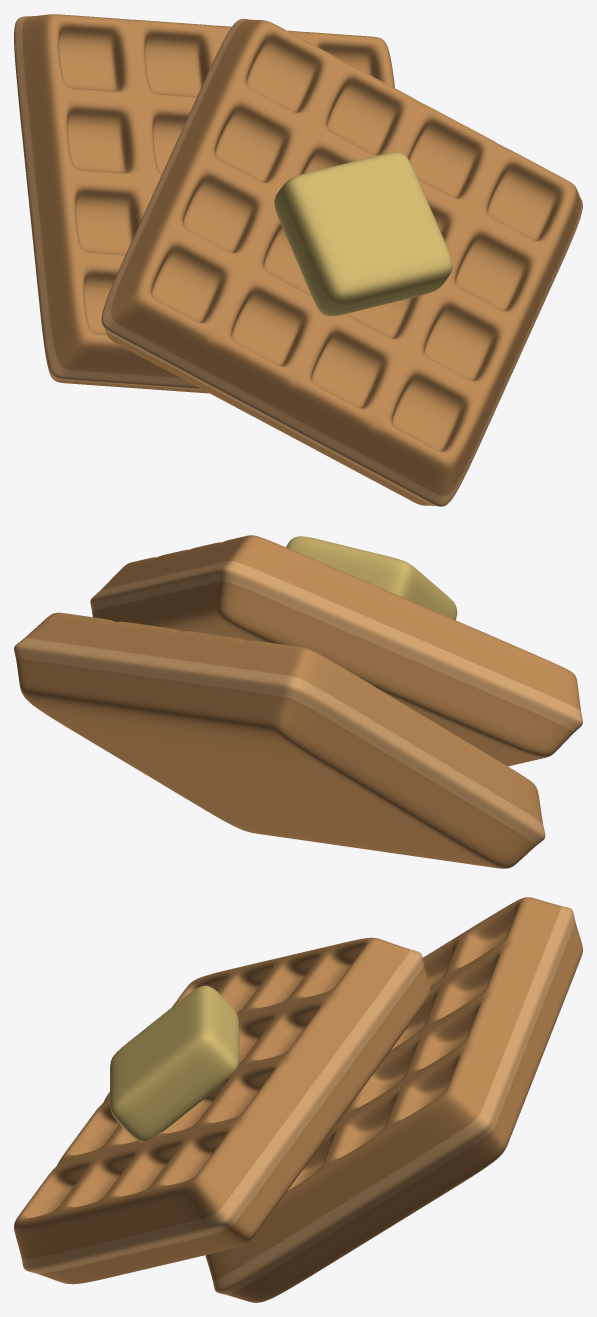
Rendered from Waffle.fbx.
The picture shows the model from 3 angles, top to bottom: view 1: azimuth 30°, elevation 25°; view 2: azimuth 150°, elevation 25°; view 3: azimuth 270°, elevation 25°; orthographic projection. The views are drawn at different scales.
Parts seen in each view (by area): view 1: Plane.012_Plane.119, Plane.025_Plane.121, Plane.014_Plane.120; view 2: Plane.025_Plane.121, Plane.012_Plane.119, Plane.014_Plane.120; view 3: Plane.012_Plane.119, Plane.025_Plane.121, Plane.014_Plane.120.
Part boxes in pixels (x1,y1,x2,y2): Plane.012_Plane.119: [101, 18, 582, 506]; Plane.025_Plane.121: [14, 14, 394, 393]; Plane.014_Plane.120: [274, 152, 452, 316]; Plane.025_Plane.121: [14, 612, 545, 868]; Plane.012_Plane.119: [90, 535, 582, 766]; Plane.014_Plane.120: [286, 536, 457, 620]; Plane.012_Plane.119: [14, 937, 430, 1284]; Plane.025_Plane.121: [205, 897, 582, 1302]; Plane.014_Plane.120: [110, 985, 239, 1142].
Size of the model in its own units: 200 by 142 by 213.
